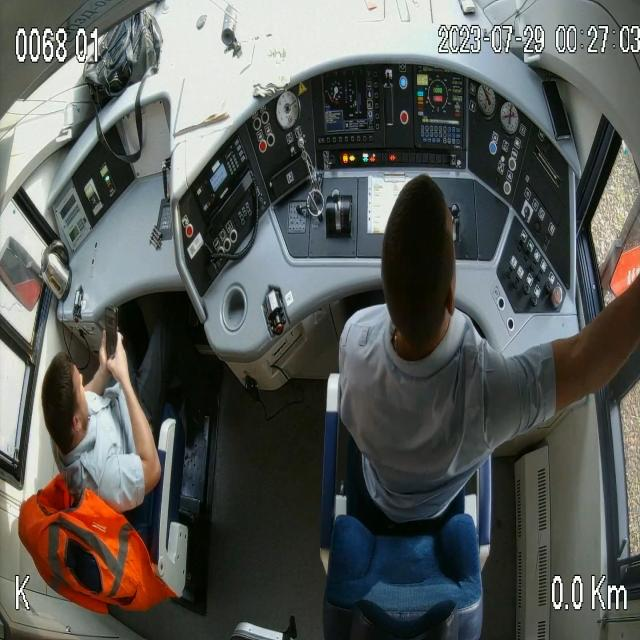smartphone: (101, 301, 123, 384)
